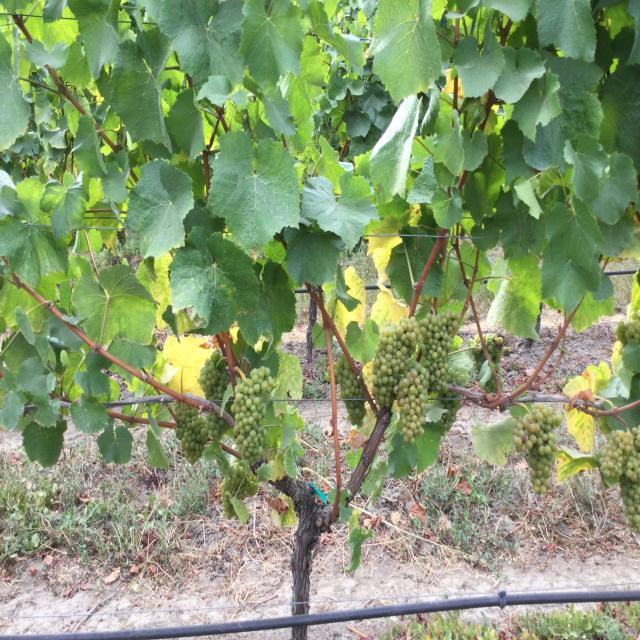grapes: (512, 403, 562, 495), (599, 427, 640, 533), (372, 317, 420, 407), (231, 367, 275, 465), (420, 310, 461, 393), (395, 362, 429, 443), (334, 353, 366, 427), (175, 402, 209, 465), (198, 348, 230, 402), (482, 333, 504, 375), (469, 335, 488, 375), (206, 412, 229, 440), (481, 370, 496, 392), (325, 368, 330, 382)
